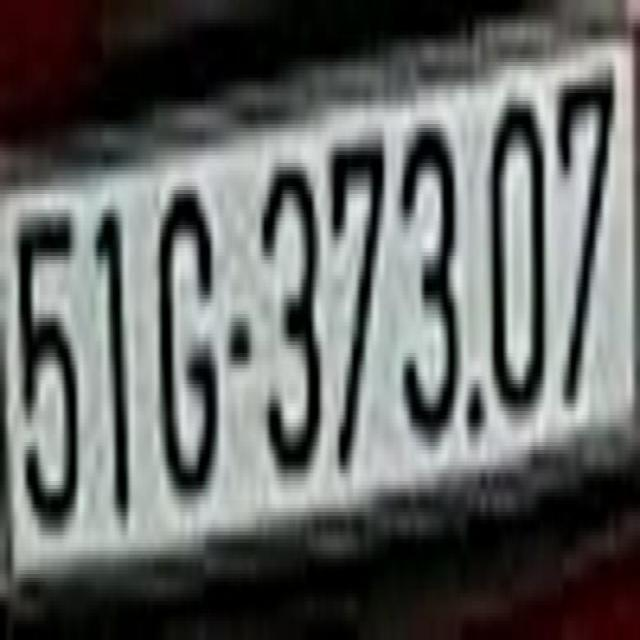0: (491, 89, 545, 431)
1: (94, 186, 130, 516)
3: (255, 151, 320, 485), (400, 128, 460, 446)
5: (16, 194, 78, 532)
7: (555, 74, 618, 412), (329, 143, 383, 454)
G: (158, 170, 218, 504)
